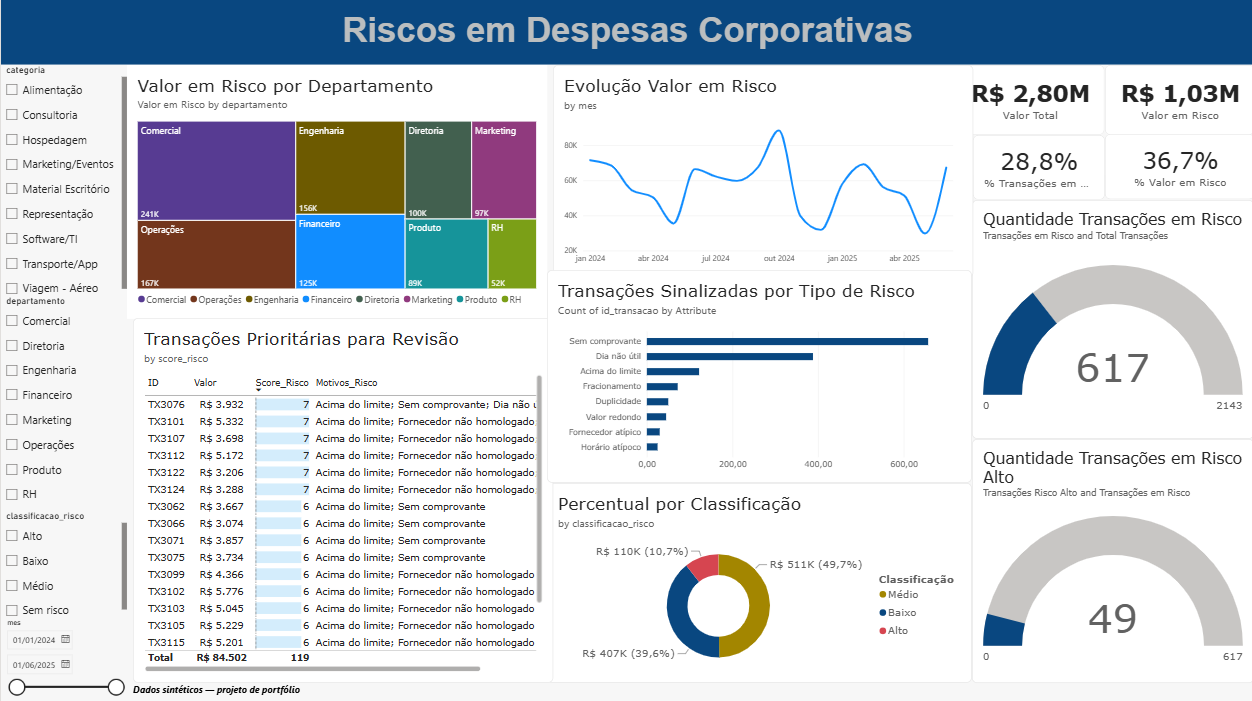

What the dashboard file says about the page in this screenshot:
{"tool":"powerbi","page":{"name":"Page 1","canvas":[1920,1080],"ordinal":0},"visuals":[{"type":"treemap","title":"Valor em Risco por Departamento","fields":{"Group":["despesas_com_risco.departamento"],"Values":["despesas_com_risco.Valor em Risco"]},"box":[193.1,102.7,643.6,389.2],"z":0},{"type":"gauge","title":"Quantidade Transações em Risco","fields":{"MaxValue":["despesas_com_risco.Total Transações"],"Y":["despesas_com_risco.Transações em Risco"]},"box":[1488.1,309.3,431.9,366.2],"z":1000},{"type":"gauge","title":"Quantidade Transações em Risco Alto","fields":{"MaxValue":["despesas_com_risco.Transações em Risco"],"Y":["despesas_com_risco.Transações Risco Alto"]},"box":[1487.9,675.8,432.1,373.9],"z":2000},{"type":"cardVisual","fields":{"Data":["despesas_com_risco.Valor Total Despesas com Risco"]},"box":[1461.9,102.1,229.1,108],"z":3000},{"type":"slicer","fields":{"Values":["despesas_com_risco.departamento"]},"box":[0,456.7,192.6,329.7],"z":4000},{"type":"slicer","fields":{"Values":["despesas_com_risco.categoria"]},"box":[0,102.1,192.6,354.5],"z":5000},{"type":"slicer","fields":{"Values":["despesas_com_risco.classificacao_risco"]},"box":[0,786.4,192.6,163.4],"z":6000},{"type":"slicer","fields":{"Values":["despesas_com_risco.mes"]},"box":[1.5,950,191.5,130.2],"z":7000},{"type":"textbox","box":[0,0,1920,102.2],"z":8000},{"type":"donutChart","title":"Percentual por Classificação","fields":{"Category":["despesas_com_risco.classificacao_risco"],"Y":["despesas_com_risco.Valor em Risco"]},"box":[836.6,743.2,651.2,306.5],"z":9000},{"type":"cardVisual","fields":{"Data":["despesas_com_risco.Valor em Risco"]},"box":[1690.9,102.1,229.1,108],"z":10000},{"type":"textbox","box":[202.3,1049.6,333.3,30],"z":11000},{"type":"lineChart","title":"Evolução Valor em Risco","fields":{"Category":["despesas_com_risco.mes.Variation.Date Hierarchy.Month"],"Y":["despesas_com_risco.Valor em Risco"]},"box":[845.8,102.7,643.6,326.4],"z":12000},{"type":"tableEx","title":"Transações Prioritárias para Revisão","fields":{"Values":["despesas_com_risco.id_transacao","Sum(despesas_com_risco.valor)","Sum(despesas_com_risco.score_risco)","despesas_com_risco.motivos_risco"]},"box":[202.3,490.3,643.6,559.3],"z":13000},{"type":"cardVisual","fields":{"Data":["despesas_com_risco.% Transações em Risco"]},"box":[1489.4,209.9,202.3,99.6],"z":14000},{"type":"cardVisual","fields":{"Data":["despesas_com_risco.% Valor em Risco"]},"box":[1690.9,208.6,229.1,100.7],"z":15000},{"type":"barChart","title":"Transações Sinalizadas por Tipo de Risco","fields":{"Category":["tipos_risco.Attribute"],"Y":["CountNonNull(tipos_risco.id_transacao)"]},"box":[836.6,416.8,651.2,326.4],"z":16000}]}

Visuals, with their boxes in screenshot pixels (x1, y1, x2, y2), scaled from the page's 1920x1080 canvas onto the 1252x701 screenshot:
"Valor em Risco por Departamento" treemap: 126, 67, 546, 319
"Quantidade Transações em Risco" gauge: 970, 201, 1251, 438
"Quantidade Transações em Risco Alto" gauge: 970, 439, 1251, 681
cardVisual - despesas_com_risco.Valor Total Despesas com Risco: 953, 66, 1103, 136
slicer - despesas_com_risco.departamento: 0, 296, 126, 510
slicer - despesas_com_risco.categoria: 0, 66, 126, 296
slicer - despesas_com_risco.classificacao_risco: 0, 510, 126, 616
slicer - despesas_com_risco.mes: 1, 617, 126, 700
textbox: 0, 0, 1251, 66
"Percentual por Classificação" donutChart: 546, 482, 970, 681
cardVisual - despesas_com_risco.Valor em Risco: 1103, 66, 1251, 136
textbox: 132, 681, 349, 700
"Evolução Valor em Risco" lineChart: 552, 67, 971, 279
"Transações Prioritárias para Revisão" tableEx: 132, 318, 552, 681
cardVisual - despesas_com_risco.% Transações em Risco: 971, 136, 1103, 201
cardVisual - despesas_com_risco.% Valor em Risco: 1103, 135, 1251, 201
"Transações Sinalizadas por Tipo de Risco" barChart: 546, 271, 970, 482
